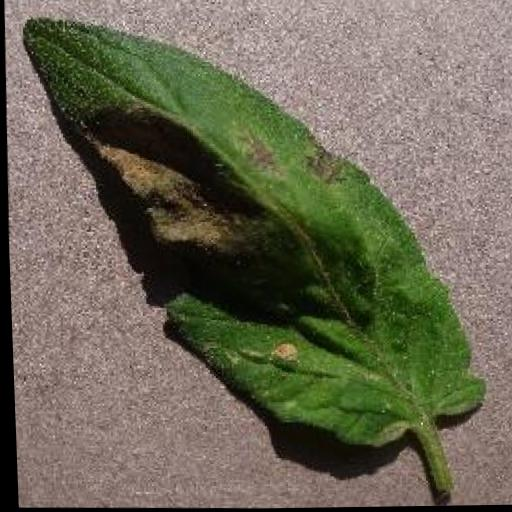Late Blight: (16, 13, 490, 452)
